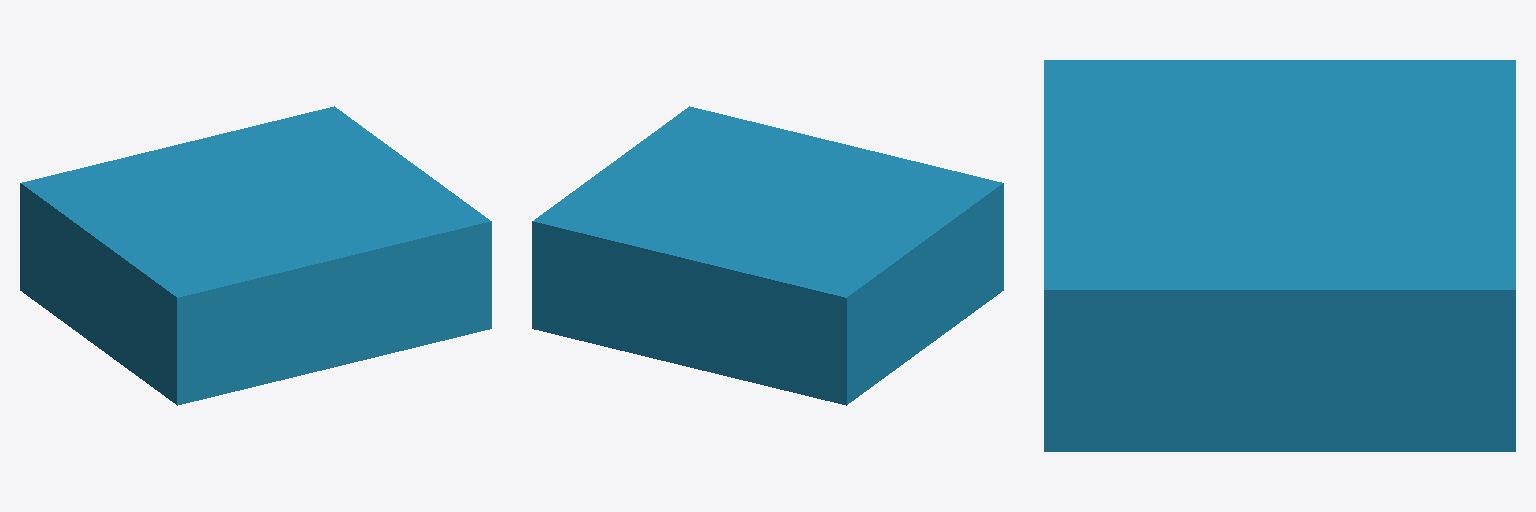
The robot description file, URDF, robot "cube":
<?xml version="1.0"?>
 <robot name="cube">
   <material name="blue">
     <color rgba="0.2 0.63137 0.788 1"/>
   </material>
   <link name="base_link">
     <visual>
       <geometry>
         <box size="0.0851 0.0737 0.0279"/>
       </geometry>
       <material name="blue"/>
     </visual>
     <inertial>
       <mass value="0"/>
       <inertia ixx="1.0" ixy="0.0" ixz="0.0" iyy="1.0" iyz="0.0" izz="1.0"/>
     </inertial>
   </link>
 </robot>

--- Render facts (derived) ---
The picture shows the robot from 3 angles, left to right: view 1: azimuth 30°, elevation 25°; view 2: azimuth 150°, elevation 25°; view 3: azimuth 270°, elevation 25°; orthographic projection.
Robot: cube — 1 links, 0 joints (none); root link base_link; default pose: all joints at 0.
Visible links, largest first — view 1: base_link; view 2: base_link; view 3: base_link.
Boxes of the visible links, <box> form: base_link: <box>20,106,491,405</box>; base_link: <box>532,106,1003,405</box>; base_link: <box>1044,60,1515,451</box>.
Size in the robot's own frame: 0.0851 by 0.0737 by 0.0279 metres.
Geometry: primitives only (box / cylinder / sphere), no mesh files.